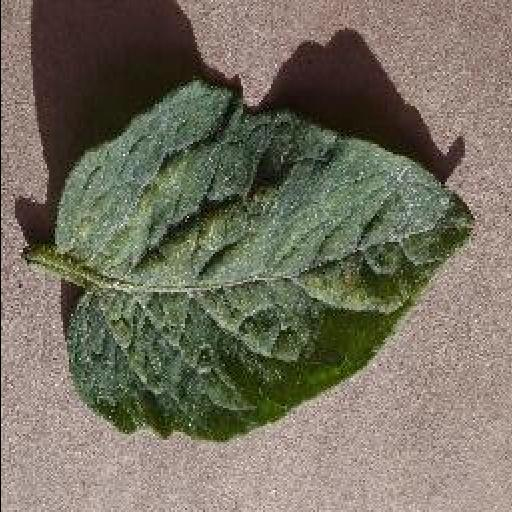disease_tomato: (56, 84, 474, 444)
